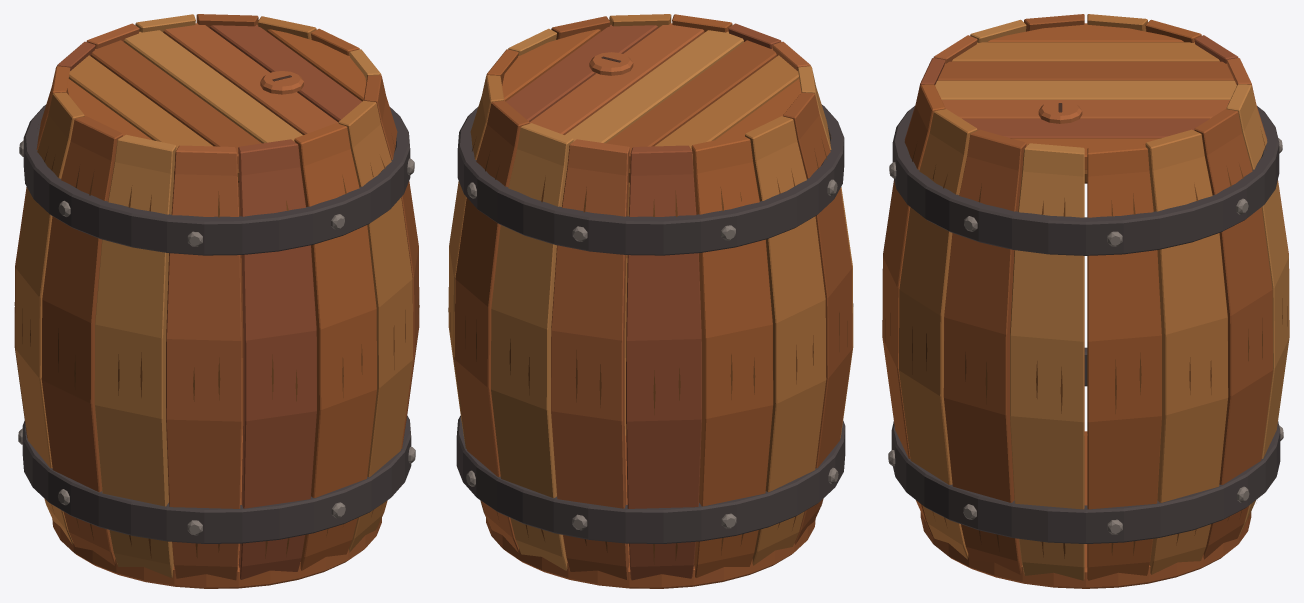
The model's file is wsc-prop-021-timber-barrel.glb.
3 views of the same model, side by side, from view 1: azimuth 30°, elevation 25°; view 2: azimuth 150°, elevation 25°; view 3: azimuth 270°, elevation 25° (orthographic).
Visible parts, largest first — view 1: wood4, wood2, wood3, iron, wood5, wood1, wood0, nail, edge; view 2: wood2, wood4, wood5, iron, wood0, wood3, wood1, edge, nail; view 3: wood2, wood1, wood3, wood0, iron, wood4, wood5, edge, nail.
Boxes of the visible parts, x1,y1,x2,y2 form: wood4: (86, 23, 338, 580); wood2: (41, 14, 419, 588); wood3: (94, 14, 381, 577); iron: (22, 104, 411, 543); wood5: (57, 24, 361, 579); wood1: (15, 16, 413, 552); wood0: (14, 28, 376, 570); nail: (18, 140, 415, 535); edge: (14, 139, 419, 558); wood2: (454, 16, 852, 588); wood4: (529, 23, 810, 579); wood5: (506, 23, 781, 580); iron: (456, 104, 845, 543); wood0: (486, 14, 801, 577); wood3: (491, 28, 853, 570); wood1: (448, 14, 826, 565); edge: (448, 128, 853, 564); nail: (466, 179, 838, 530); wood2: (920, 14, 1272, 588); wood1: (899, 14, 1228, 574); wood3: (935, 19, 1289, 580); wood0: (882, 19, 1201, 580); iron: (891, 106, 1280, 543); wood4: (933, 35, 1289, 321); wood5: (882, 35, 1238, 321); edge: (885, 131, 1287, 558); nail: (888, 138, 1283, 534).
Bounding box in the file's own units: 0.7812 × 0.929 × 0.7812.
